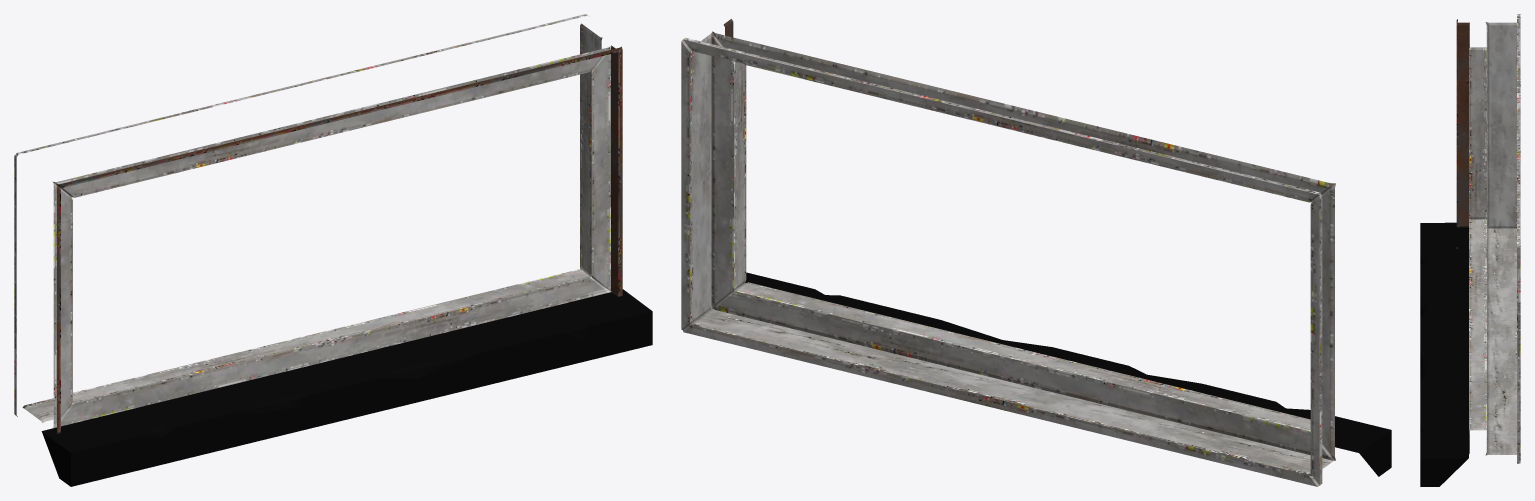
File: window_frame_g.glb
The picture shows the model from 3 angles, left to right: view 1: azimuth 30°, elevation 25°; view 2: azimuth 150°, elevation 25°; view 3: azimuth 270°, elevation 25°; orthographic projection. The views are drawn at different scales.
Visible parts, largest first — view 1: window_frame_g; view 2: window_frame_g; view 3: window_frame_g.
Boxes of the visible parts, left/top/right/bottom form: window_frame_g: left=14, top=14, right=652, bottom=486; window_frame_g: left=681, top=19, right=1391, bottom=486; window_frame_g: left=1420, top=14, right=1520, bottom=486.
Size of the model in its own units: 1.8 by 0.8524 by 0.3246.
Materials: 1 (1 with a texture image).
